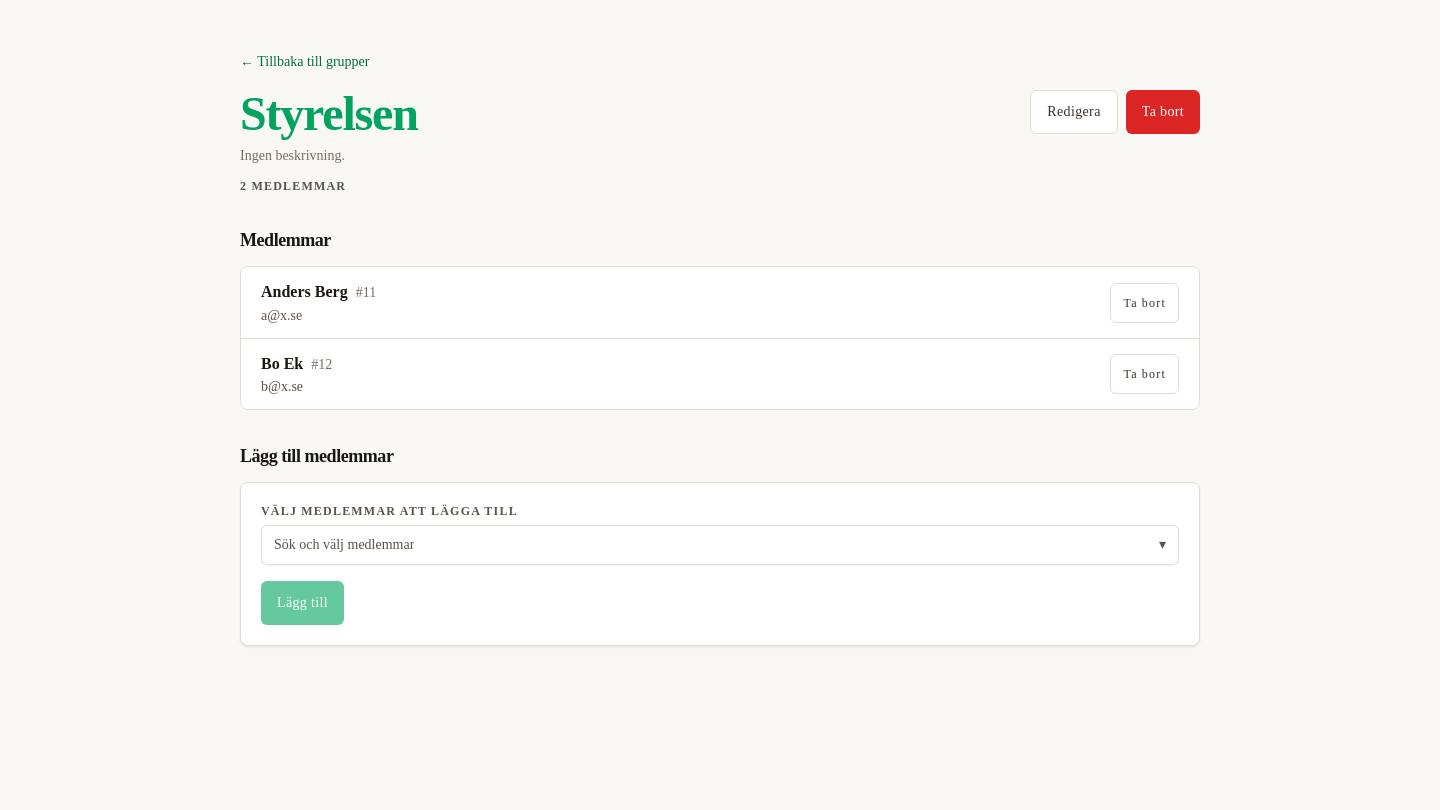
Test: GroupDetail confirmations › adds members picked in the combobox
Expected: the link "Bo Ek" is shown, [261,355,303,372]
Click the button named "Välj medlemmar att lägga till".
click(344, 545)  # box [261,525,1179,565]
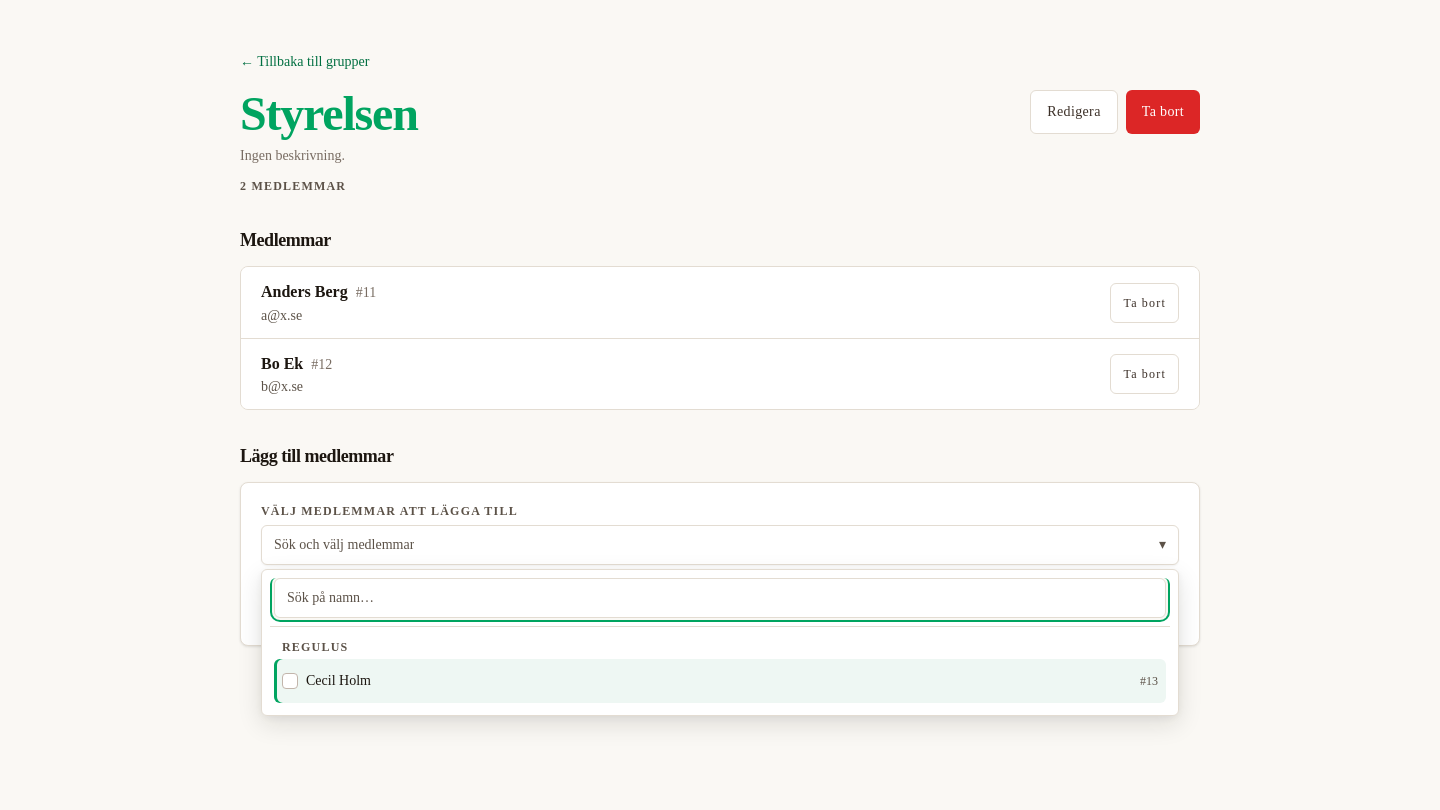
Expected: the number of options is 1
Click the option "Cecil Holm #13".
click(338, 680)  # box [274,659,1166,703]
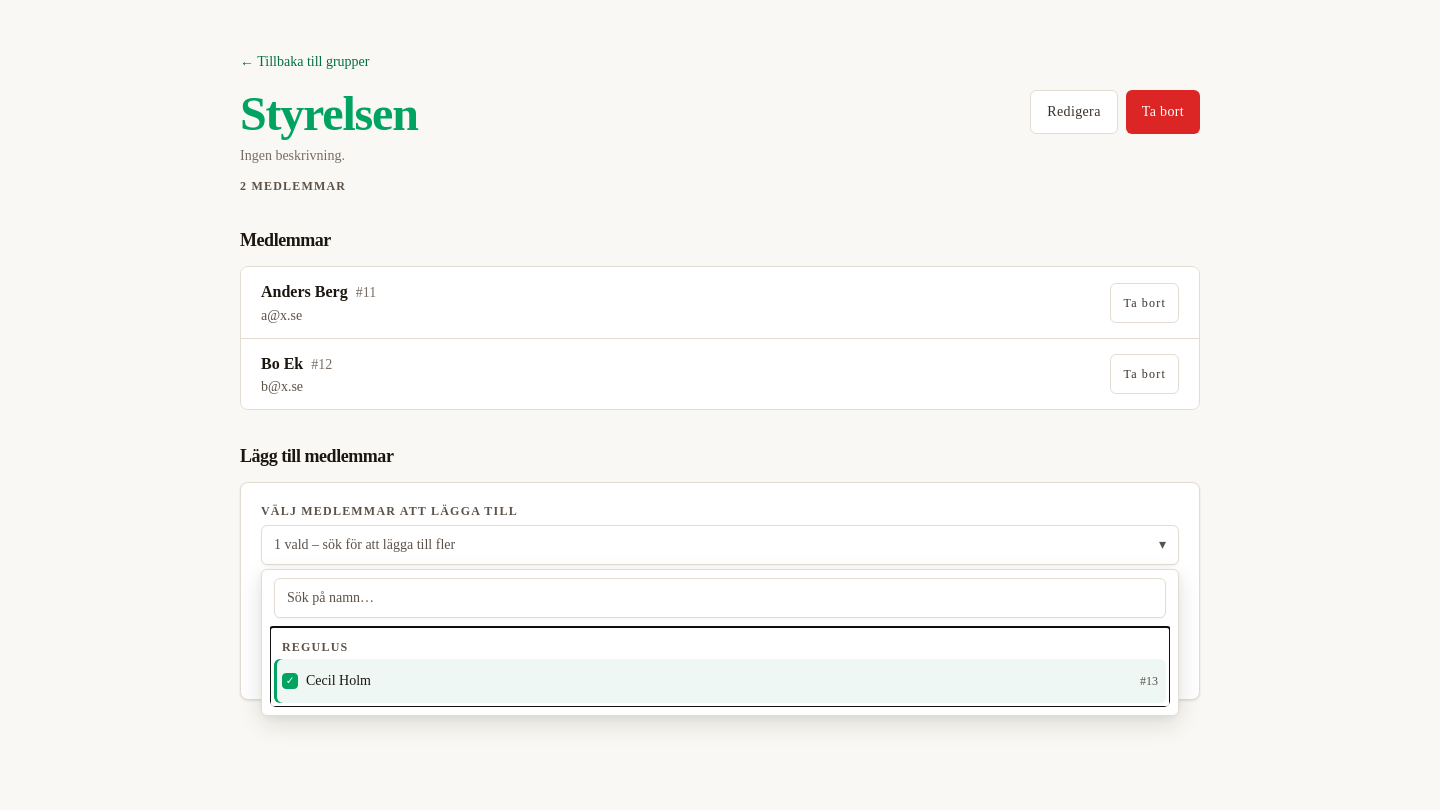
Press Escape
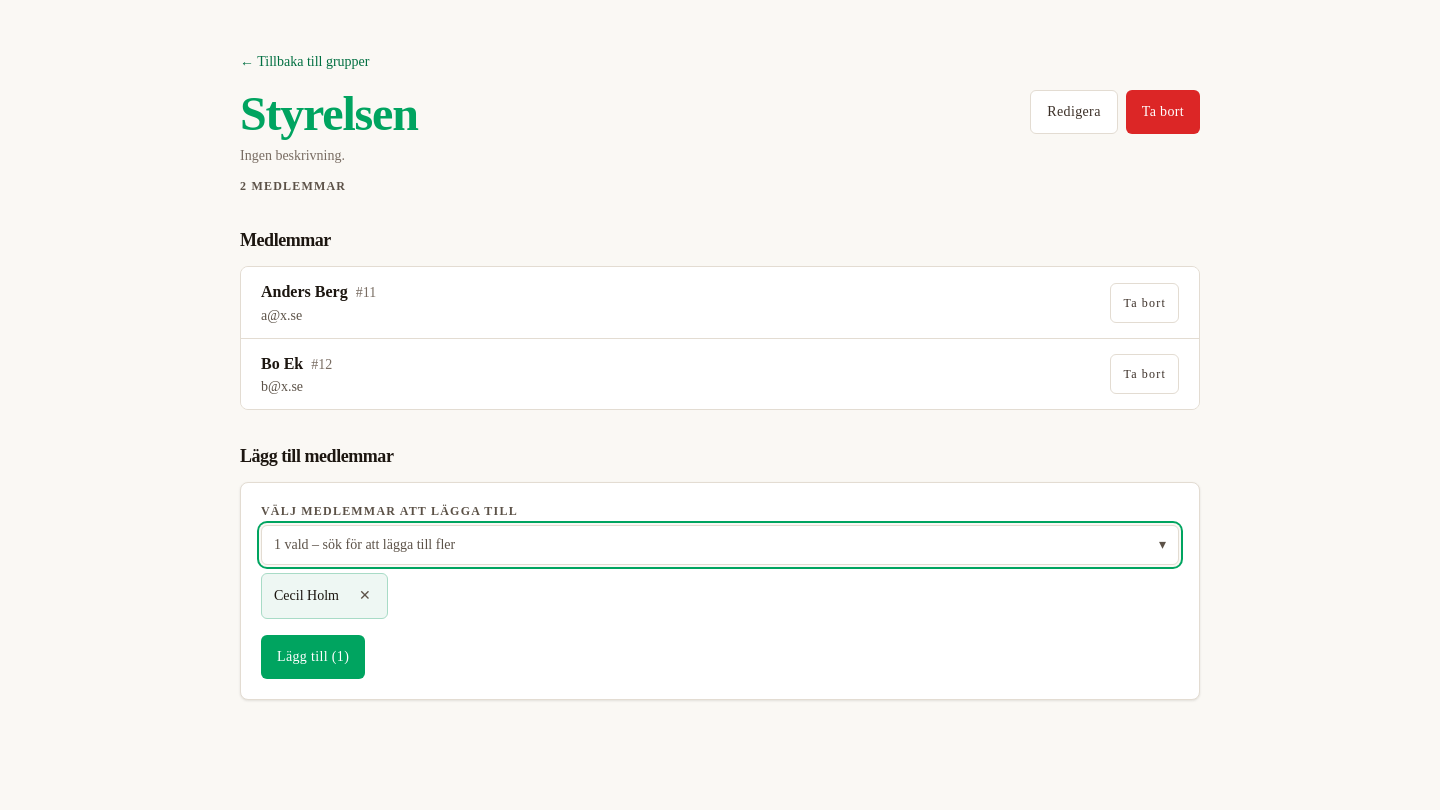
Click the button "Lägg till (1)".
click(313, 657)  # box [261,635,365,679]
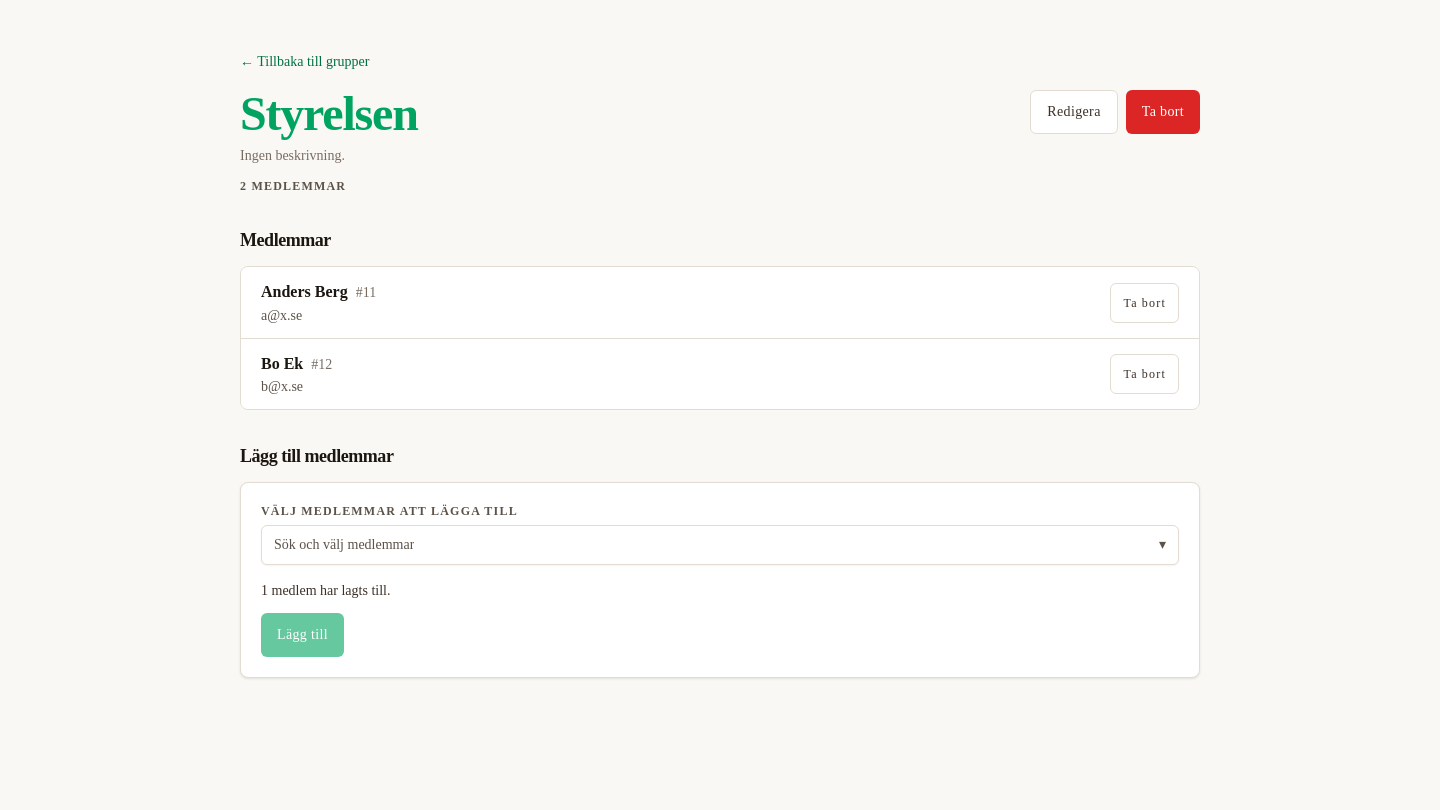
Expected: the text "1 medlem har lagts till." is shown, [261,583,390,598]
